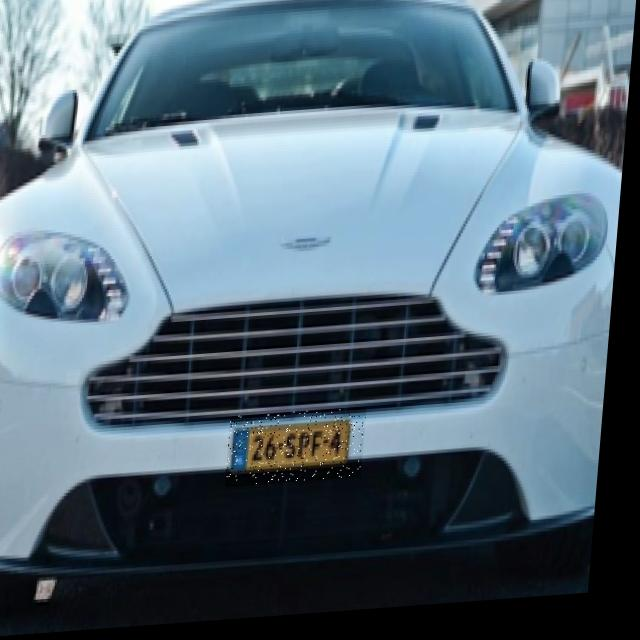license_plate: (234, 413, 374, 492)
